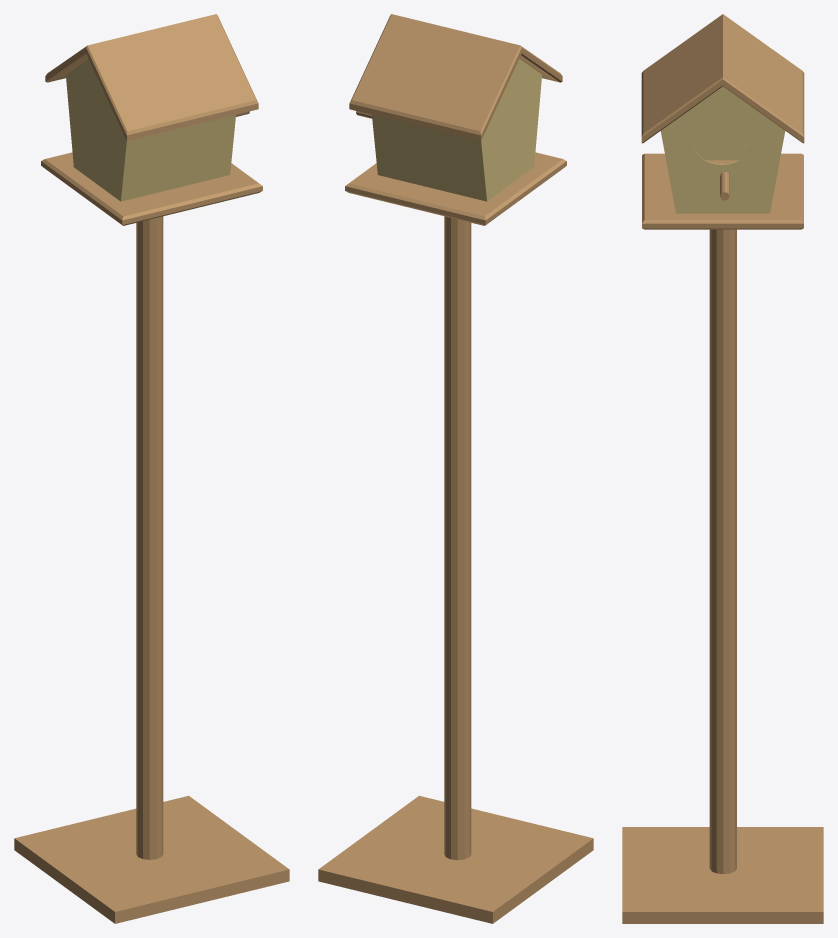
File: Bird House.fbx
3 views of the same model, side by side, from view 1: azimuth 30°, elevation 25°; view 2: azimuth 150°, elevation 25°; view 3: azimuth 270°, elevation 25° (orthographic).
Visible parts, largest first — view 1: Cube.003; view 2: Cube.003; view 3: Cube.003.
Boxes of the visible parts, x1,y1,x2,y2 form: Cube.003: (14, 14, 289, 923); Cube.003: (318, 14, 593, 923); Cube.003: (622, 14, 823, 923).
Bounding box in the file's own units: 110 × 478 × 104.
